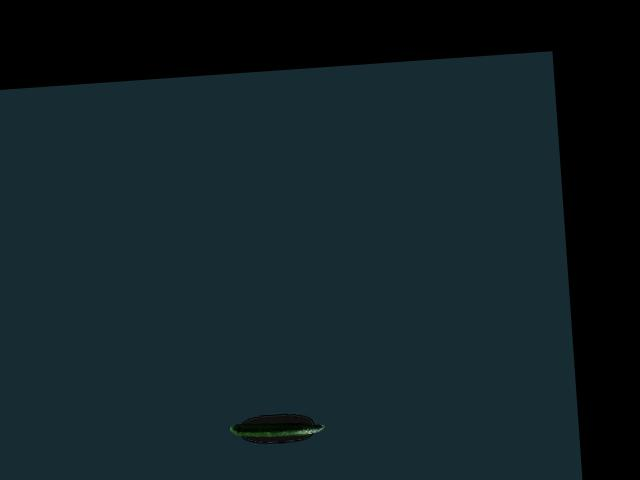cucumber: (229, 417, 325, 439)
